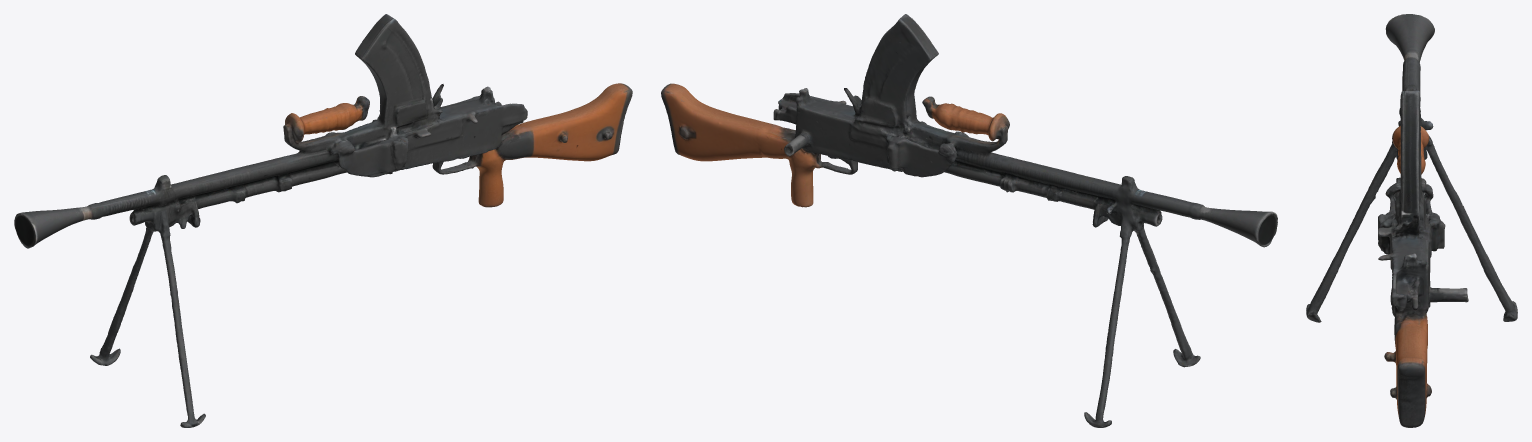
The model's file is Type 96 Light Machine Gun.glb.
The picture shows the model from 3 angles, left to right: view 1: azimuth 30°, elevation 25°; view 2: azimuth 150°, elevation 25°; view 3: azimuth 270°, elevation 25°; orthographic projection. The views are drawn at different scales.
Bounding box in the file's own units: 2 × 1.02 × 0.5382.
1 material, 1 textured.
